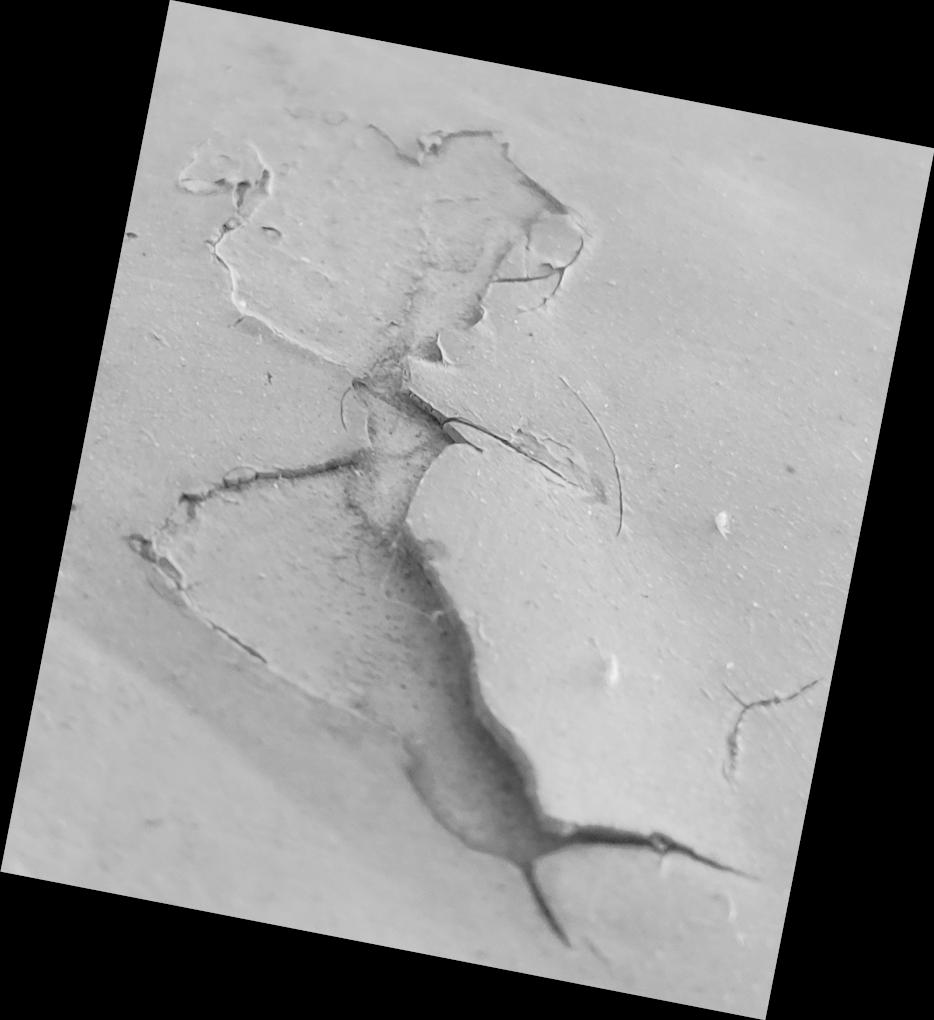crack: (0, 1, 933, 1020)
